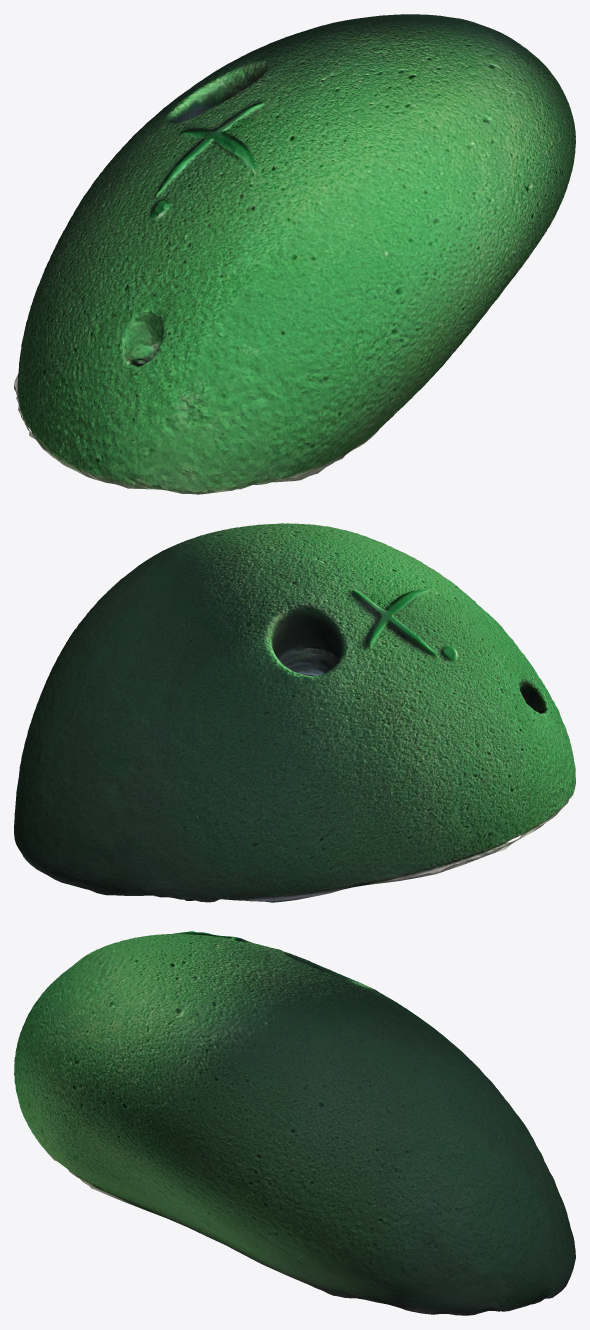
The model's file is Expression_Pure_Eggs_4.glb.
3 renders of one model, top to bottom at view 1: azimuth 30°, elevation 25°; view 2: azimuth 150°, elevation 25°; view 3: azimuth 270°, elevation 25°, orthographic. The views are drawn at different scales.
Bounding box in the file's own units: 0.8978 × 0.5008 × 0.8944.
Materials: 1 (1 with a texture image).
